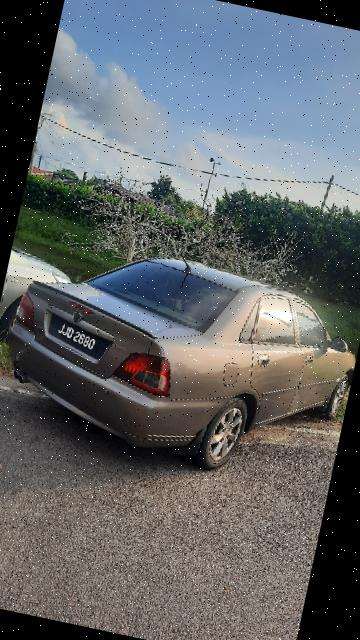License_Plate: (42, 314, 114, 365)
car: (1, 233, 356, 491), (1, 247, 81, 353)
